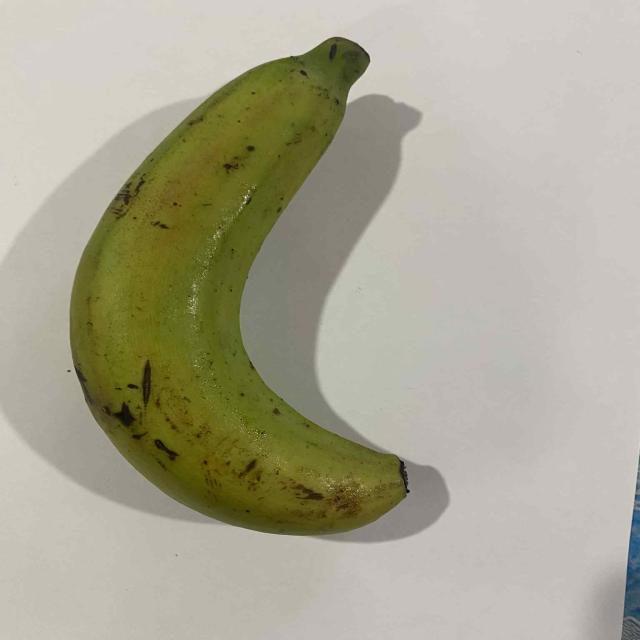Unripe: (19, 27, 506, 566)
